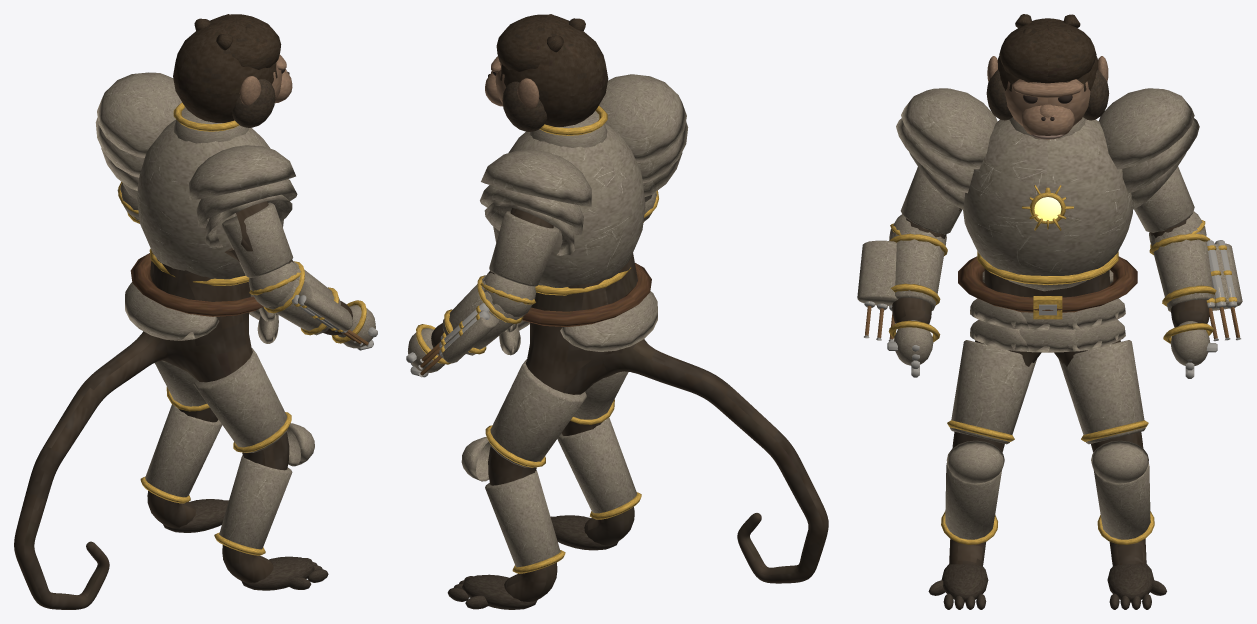
The model's file is tower_dart.glb.
3 renders of one model, left to right at view 1: azimuth 30°, elevation 25°; view 2: azimuth 150°, elevation 25°; view 3: azimuth 270°, elevation 25°, orthographic. The views are drawn at different scales.
Visible parts, largest first — view 1: tower_dart; view 2: tower_dart; view 3: tower_dart.
Boxes of the visible parts, x1=… form: tower_dart: x1=14, y1=14, x2=377, y2=609; tower_dart: x1=406, y1=14, x2=828, y2=609; tower_dart: x1=857, y1=14, x2=1242, y2=609.
Bounding box in the file's own units: 1.08 × 1.73 × 1.07.
14 materials, 8 textured.
